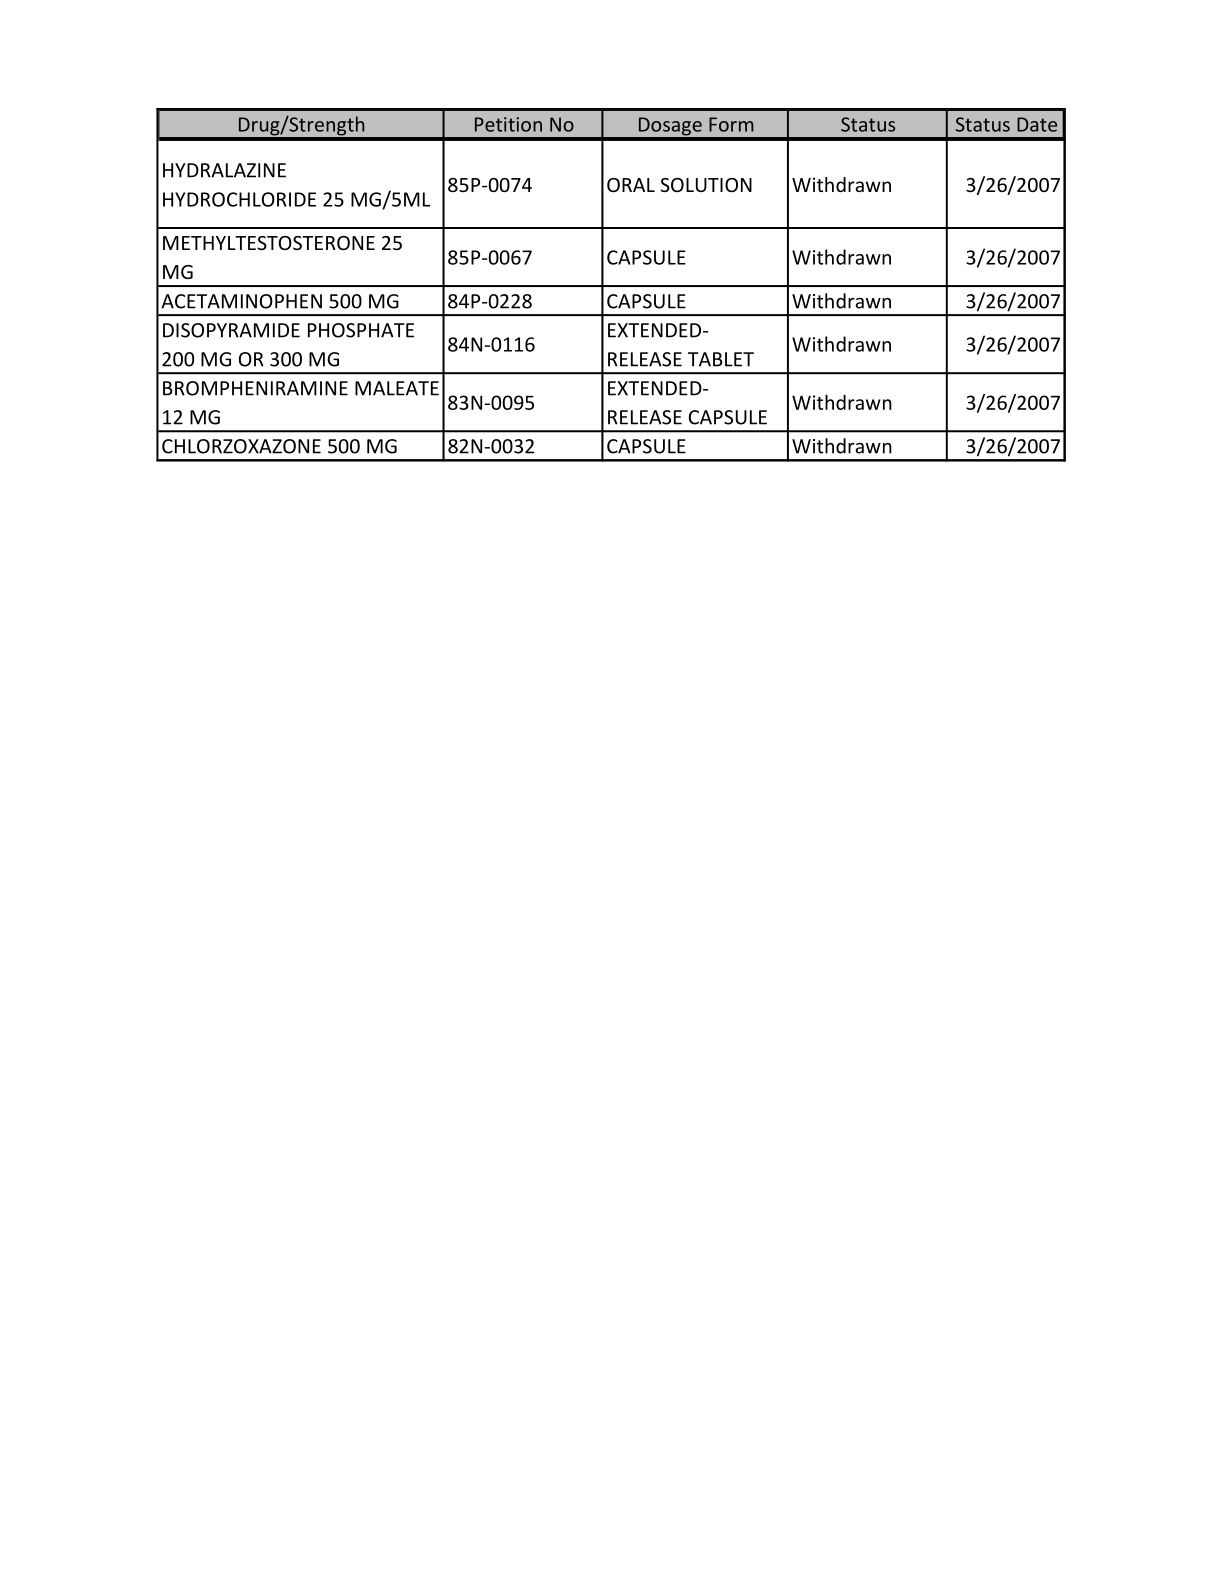full_lined: (156, 107, 1066, 462)
